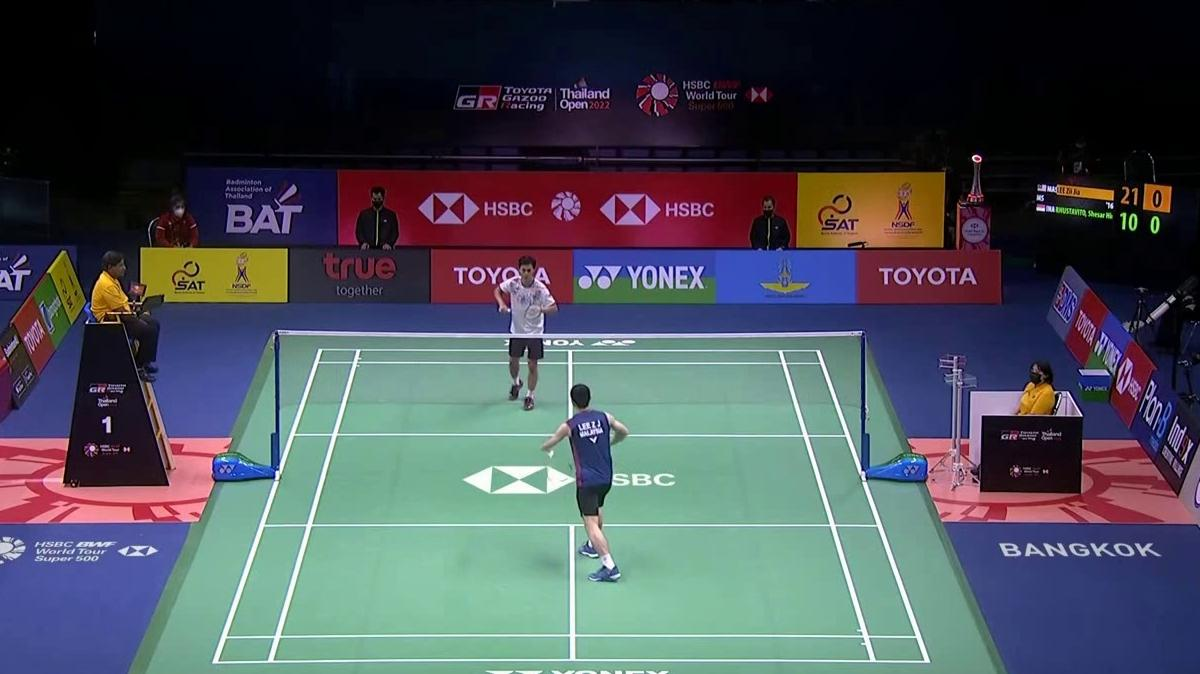racket: (546, 444, 610, 483), (498, 303, 542, 319)
shuttle: (543, 448, 555, 459)
